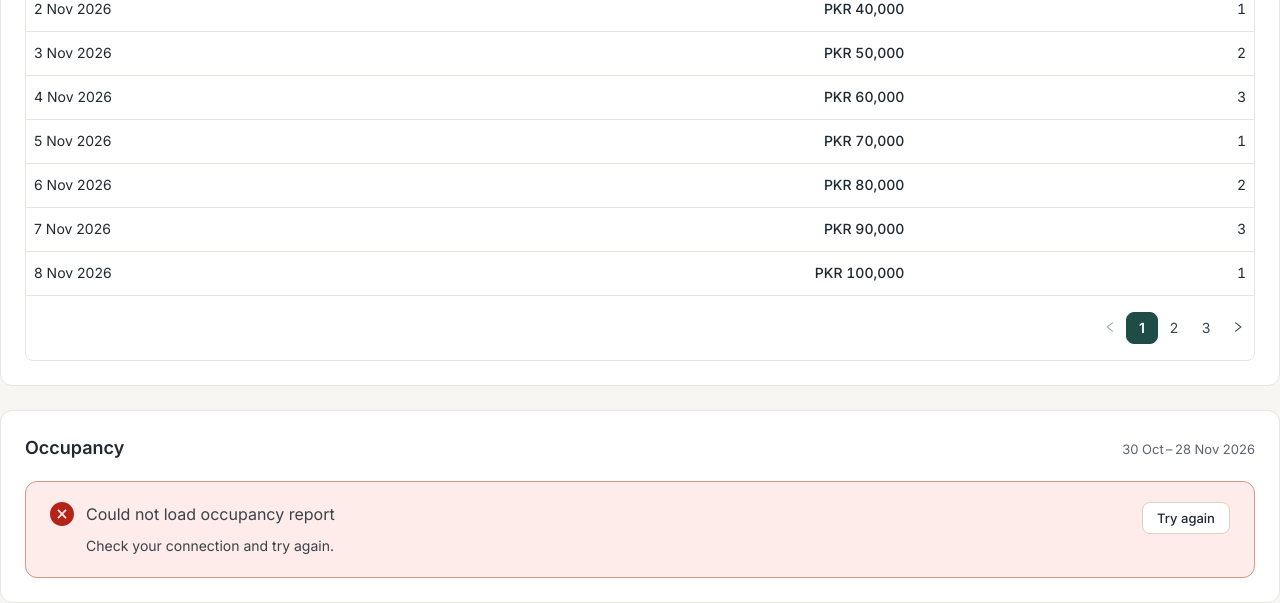
Test: ReportsView › isolates per-block loading skeletons and error Alerts with retry without blocking the healthy block
The image size is (1280, 603).
(page scrolled)
Check: the text "Could not load occupancy report" is shown, box [86, 504, 335, 524]
Note: Retry Occupancy independently
Step 1. Click the button "Try again" → x=1186, y=518, box [1142, 502, 1230, 534]
(page scrolled)
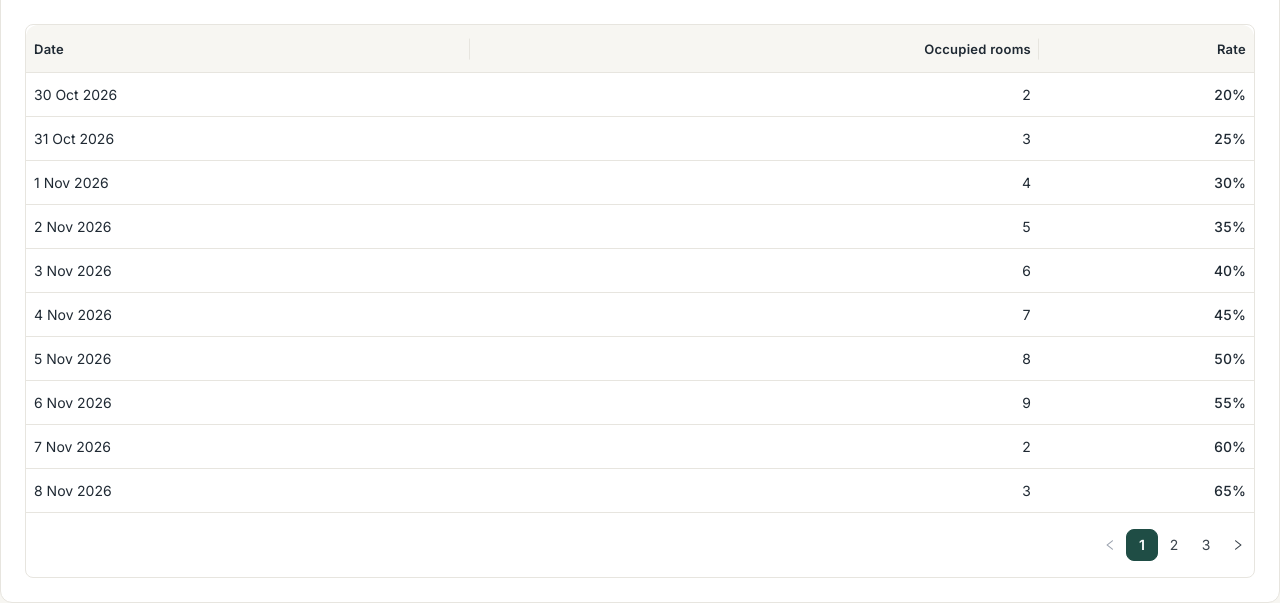
Check: the element with test id "occupancy-report-table" is shown
Check: the text "Could not load occupancy report" is gone
